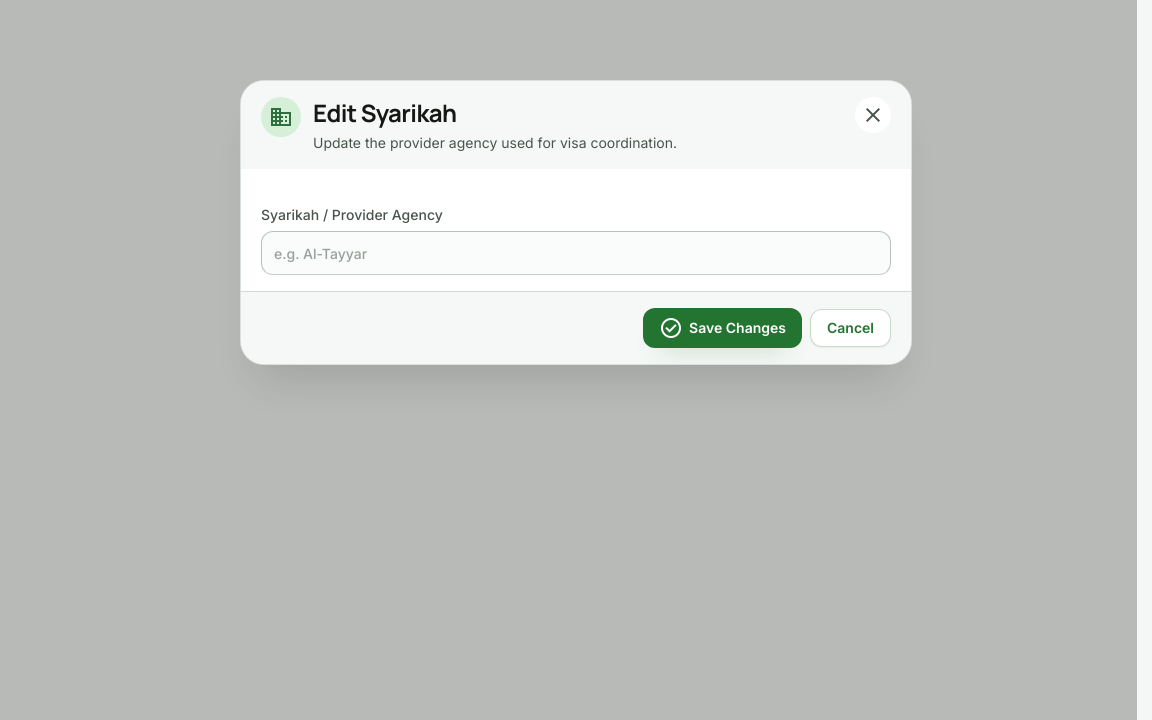
Test: SyarikahModal › shows validation error when input is empty
Step 1. Click the text "Save Changes" → (738, 328), box [689,318,786,338]
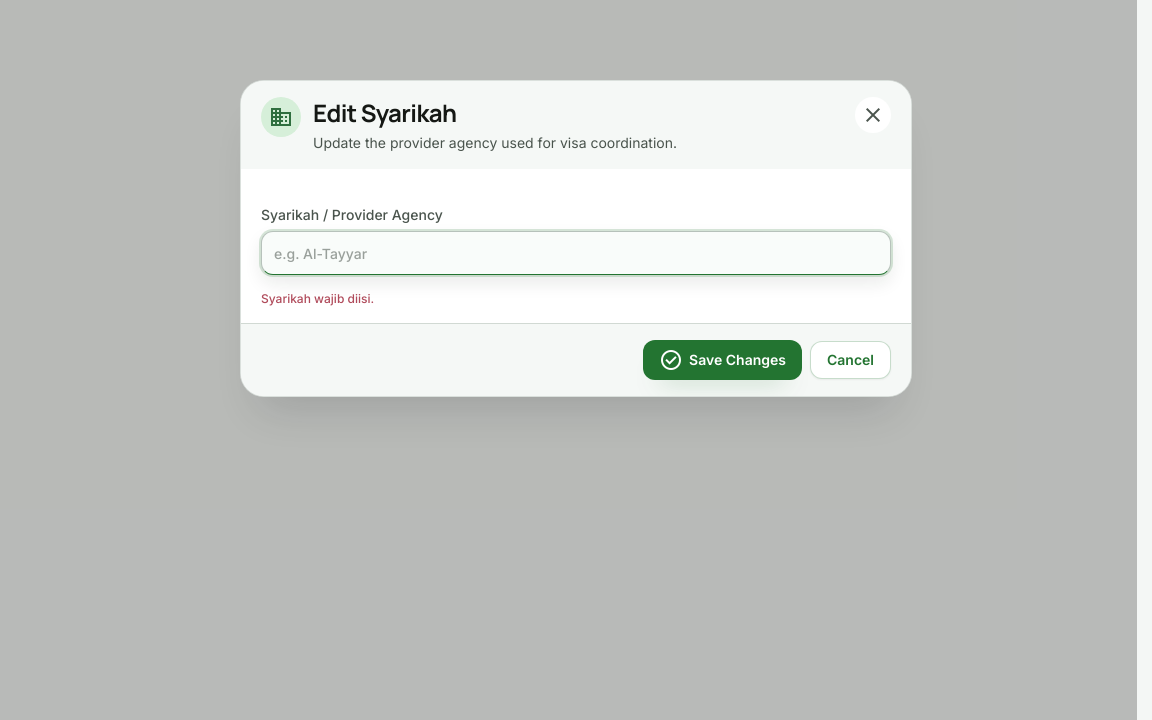
Expected: the text "Syarikah wajib diisi." is shown, [261,291,374,306]
